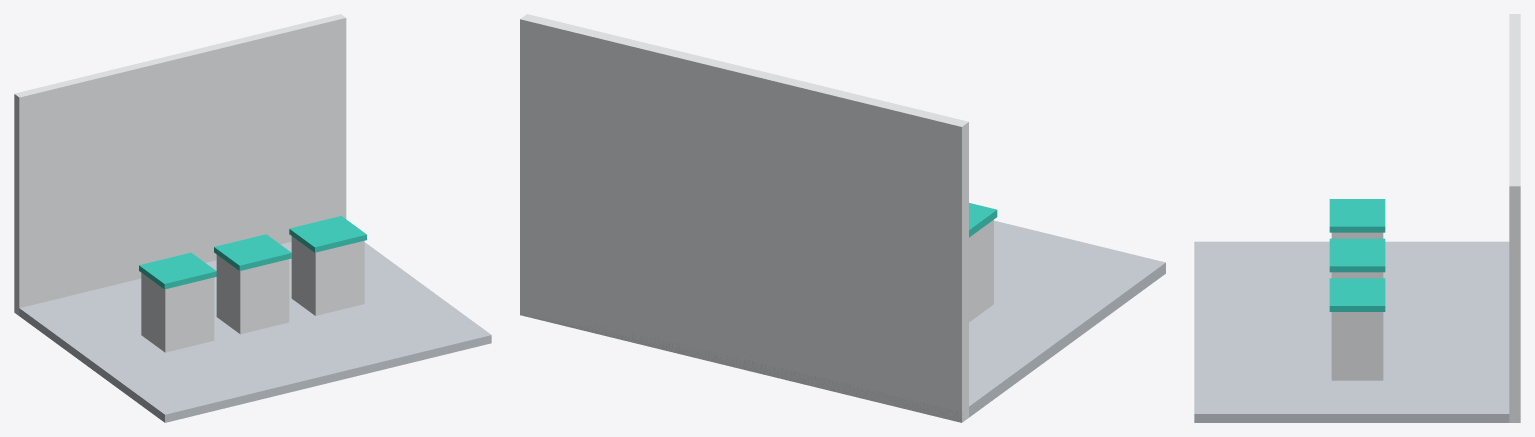
The picture shows the model from 3 angles, left to right: view 1: azimuth 30°, elevation 25°; view 2: azimuth 150°, elevation 25°; view 3: azimuth 270°, elevation 25°; orthographic projection. The views are drawn at different scales.
Parts seen in each view (by area): view 1: Exhibition Booth Concept; view 2: Exhibition Booth Concept; view 3: Exhibition Booth Concept.
Boxes of the visible parts, x1,y1,x2,y2 form: Exhibition Booth Concept: (14,14,491,422); Exhibition Booth Concept: (520,14,1165,422); Exhibition Booth Concept: (1194,14,1520,422).
Bounding box in the file's own units: 5 × 3.2 × 4.
